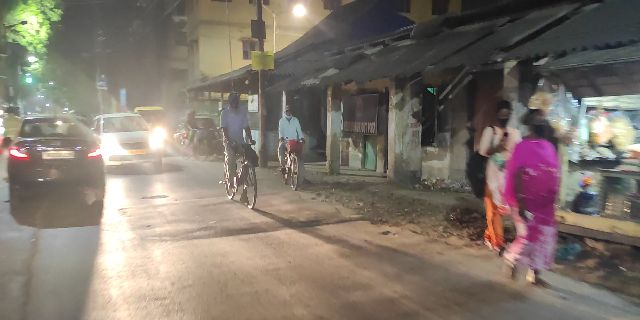Car: (11, 117, 105, 189), (112, 114, 165, 166)
Cycle: (210, 93, 266, 213), (266, 105, 304, 200)
